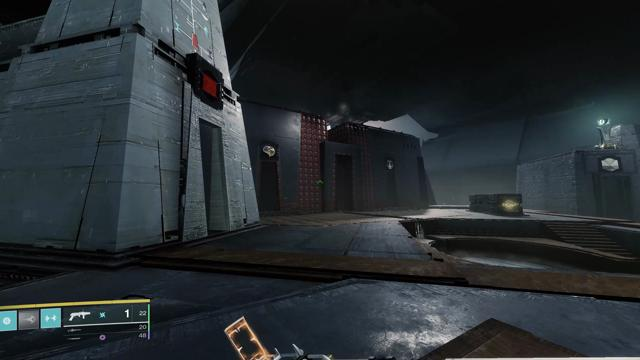brain: (261, 143, 277, 158)
commune: (602, 158, 619, 171)
drink: (385, 159, 395, 170)
stop: (200, 69, 220, 102)
